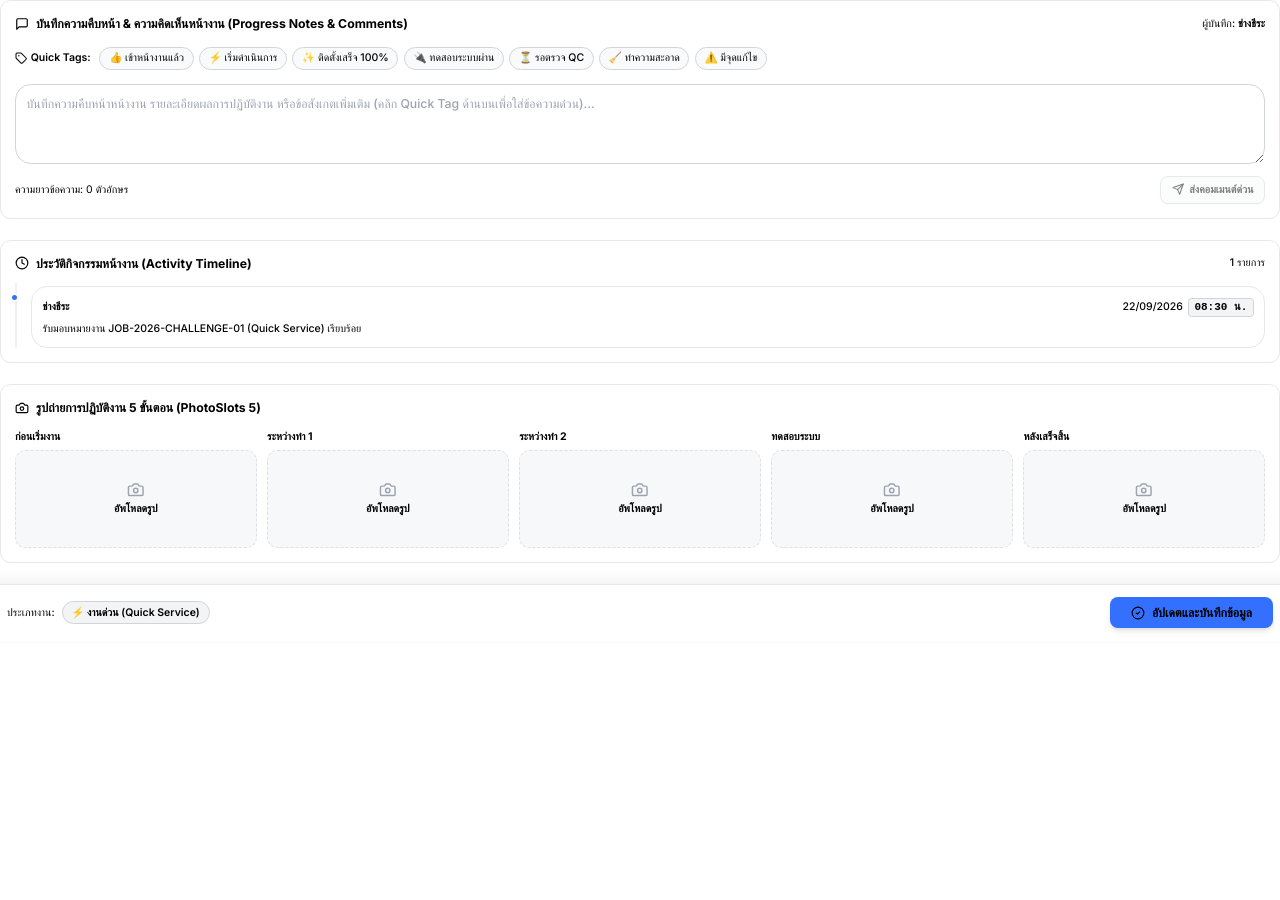
Mission 2: Quick Tags Adversarial Tests › cleanly concatenates tag with existing text using a single space
Type "เริ่มงานช่วงเช้า" into the text box labelled "บันทึกความคืบหน้า". click: (640, 124)
box: [15,84,1265,164]
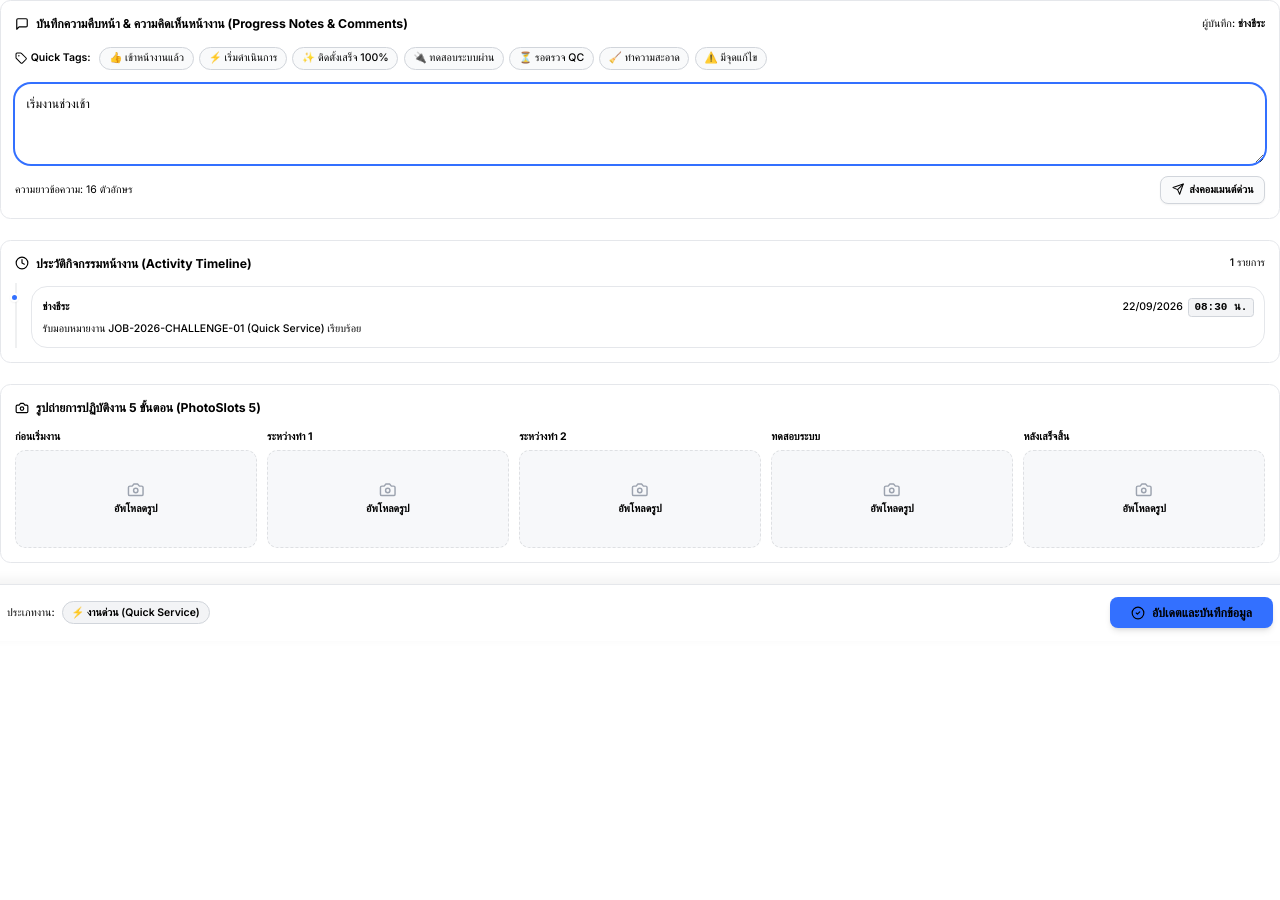
# Click quick tag
Click the button "⚡ เริ่มดำเนินการ". click: (243, 58)
box: [199,46,287,70]
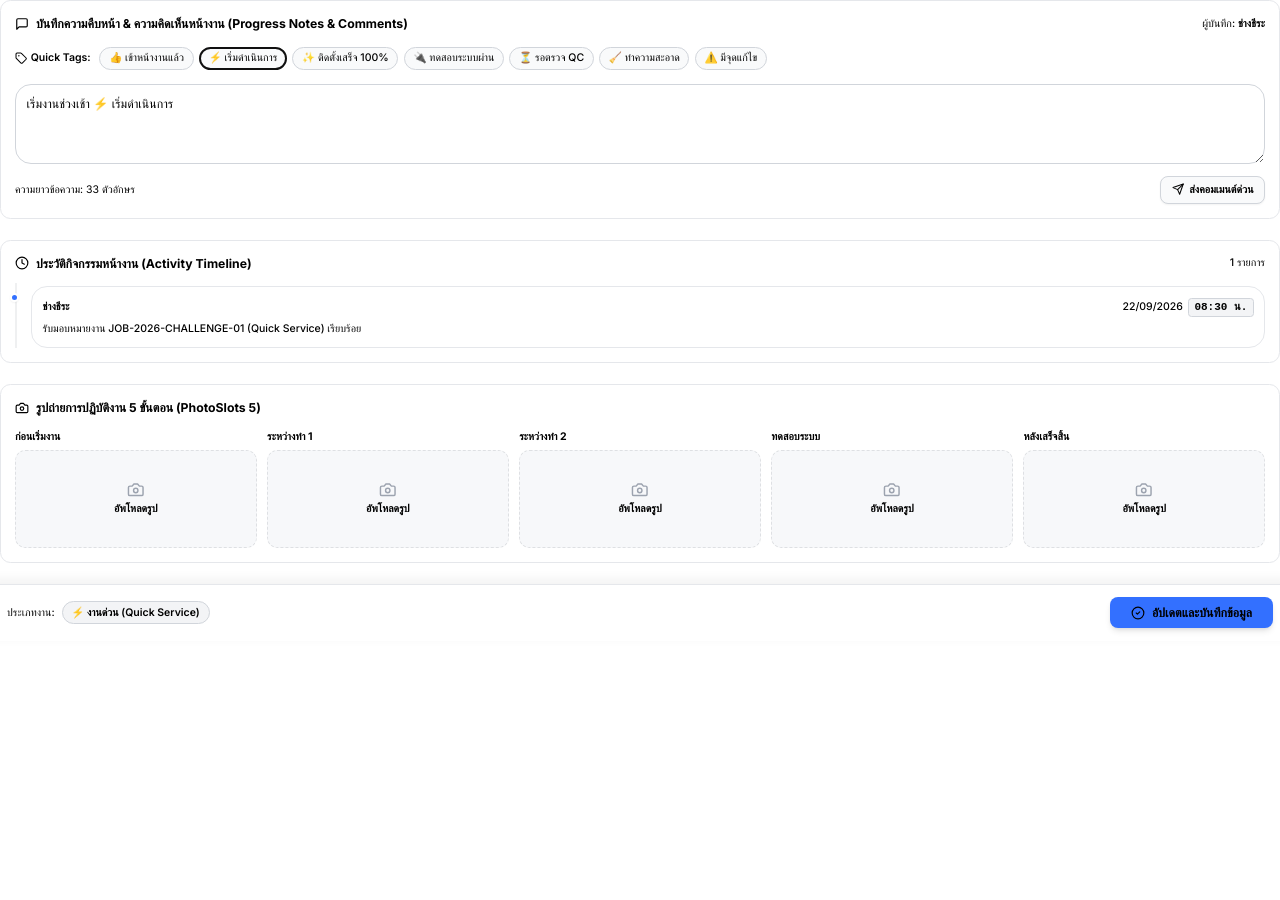
Now the text box named "บันทึกความคืบหน้า" holds "เริ่มงานช่วงเช้า ⚡ เริ่มดำเนินการ", box [15,84,1265,164]
